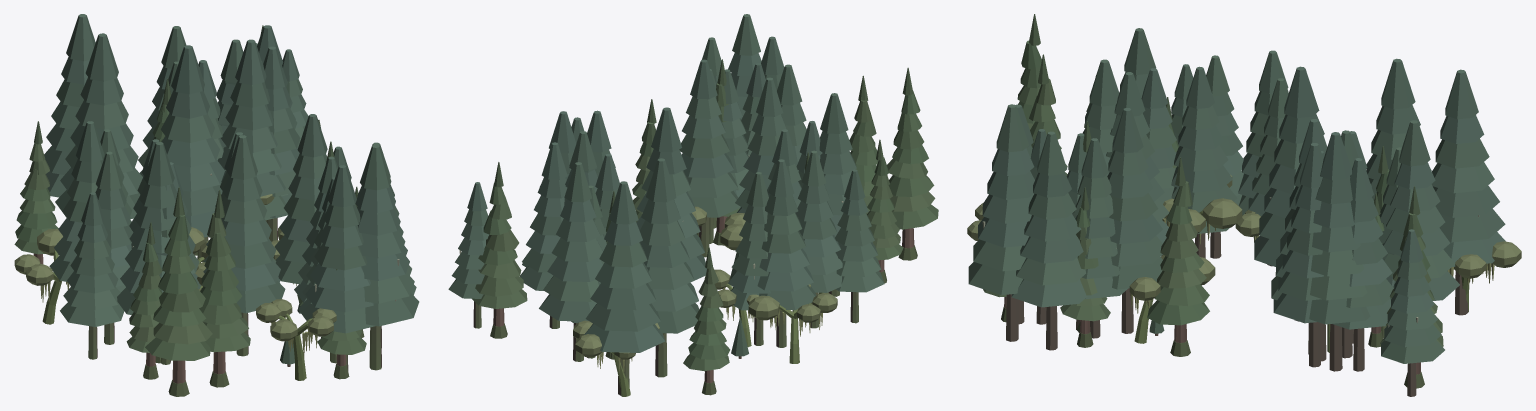
Rendered from Mist_Forest_0_2.fbx.
The picture shows the model from 3 angles, left to right: view 1: azimuth 30°, elevation 25°; view 2: azimuth 150°, elevation 25°; view 3: azimuth 270°, elevation 25°; orthographic projection. The views are drawn at different scales.
Visible parts, largest first — view 1: Mist_Forest_0_2; view 2: Mist_Forest_0_2; view 3: Mist_Forest_0_2.
Boxes of the visible parts, x1,y1,x2,y2 form: Mist_Forest_0_2: (14, 14, 419, 396); Mist_Forest_0_2: (448, 14, 938, 396); Mist_Forest_0_2: (967, 14, 1521, 396).
Size of the model in its own units: 38.28 by 25.2 by 48.69.
